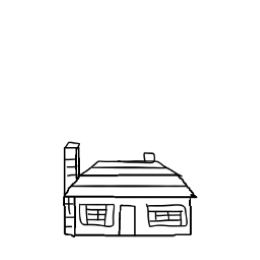bottom_placed_house: (4, 6, 260, 260)
chimney: (59, 139, 90, 192), (137, 148, 162, 170)
closed_window: (141, 201, 189, 230), (77, 201, 116, 229)
door: (115, 203, 139, 240)
roof: (57, 158, 198, 202)
small_house: (2, 0, 260, 260)
wall: (71, 192, 196, 240)
